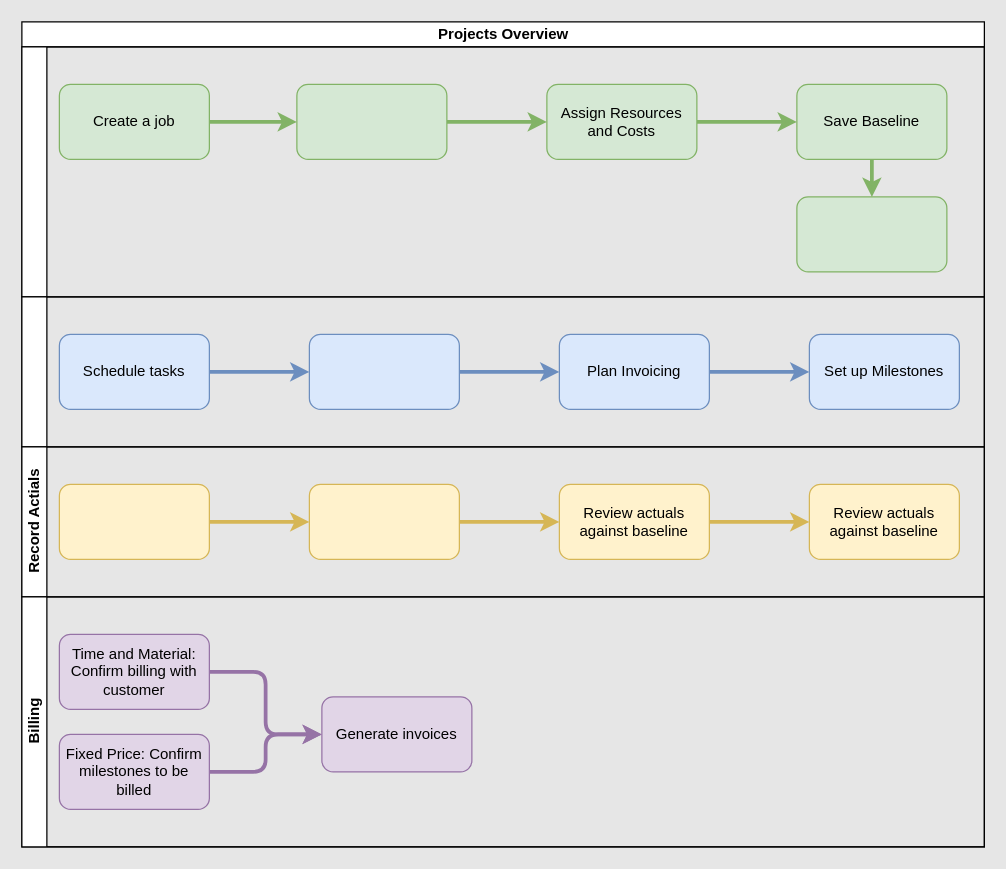
Image size: 1006x869. Some labels were removed from this diagram. The box of each missing label's shape, as (x1, y1, x2, y2) in pixels:
Approve and Post Time Sheets: (308, 483, 459, 559)
Capture Time Sheets: (58, 483, 209, 559)
Change Status to Open: (796, 196, 947, 272)
Create new project: (21, 46, 984, 297)
Create purchase requests: (308, 333, 459, 409)
Generate WBS: (296, 83, 447, 159)
Planning: (21, 296, 984, 447)
